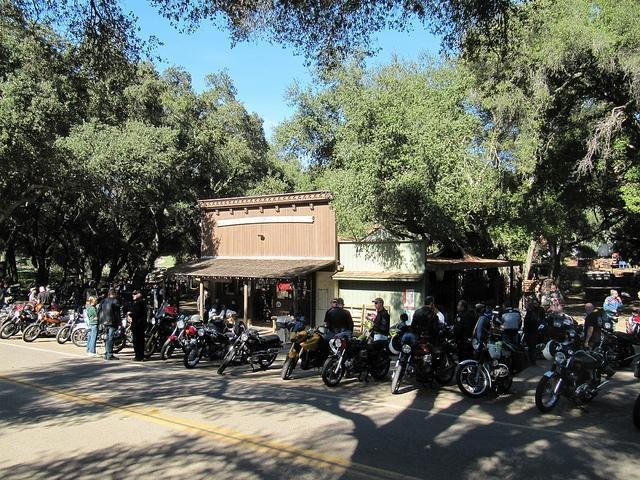motorcycle: (534, 336, 615, 416), (390, 312, 458, 394), (454, 334, 530, 400), (321, 330, 394, 388), (160, 308, 230, 360), (217, 323, 286, 375), (279, 327, 332, 380), (182, 322, 235, 370), (22, 303, 71, 343), (144, 303, 178, 356), (56, 314, 84, 344), (70, 323, 88, 347)
